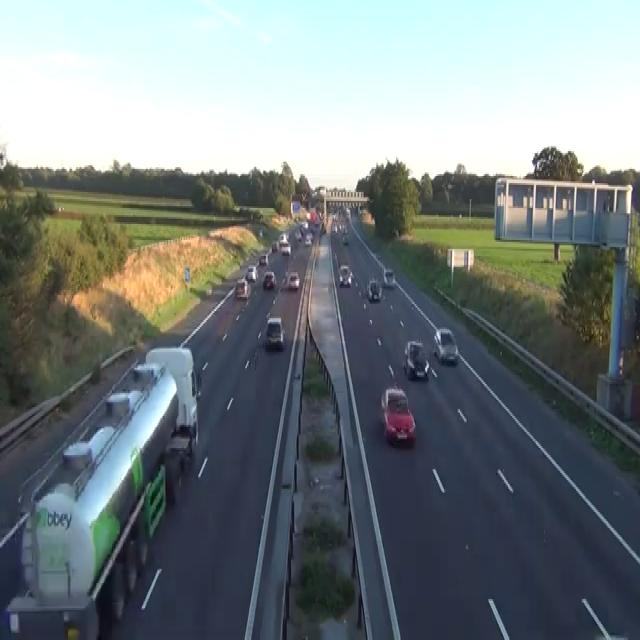Car: (105, 361, 163, 414), (62, 425, 116, 471), (380, 386, 416, 444), (163, 425, 193, 471), (105, 388, 143, 418), (402, 338, 429, 378), (432, 327, 458, 365), (265, 316, 284, 351), (366, 278, 382, 302), (234, 277, 250, 299), (338, 263, 352, 286), (262, 270, 276, 290), (382, 267, 395, 286), (288, 270, 299, 288), (245, 265, 257, 281), (281, 242, 291, 254), (258, 254, 268, 265), (279, 233, 288, 245), (319, 222, 326, 235), (299, 221, 308, 231), (294, 229, 302, 240), (271, 240, 278, 252), (342, 233, 349, 243), (304, 235, 311, 245), (319, 210, 323, 218), (259, 228, 262, 236)
Truck: (2, 343, 200, 638)
